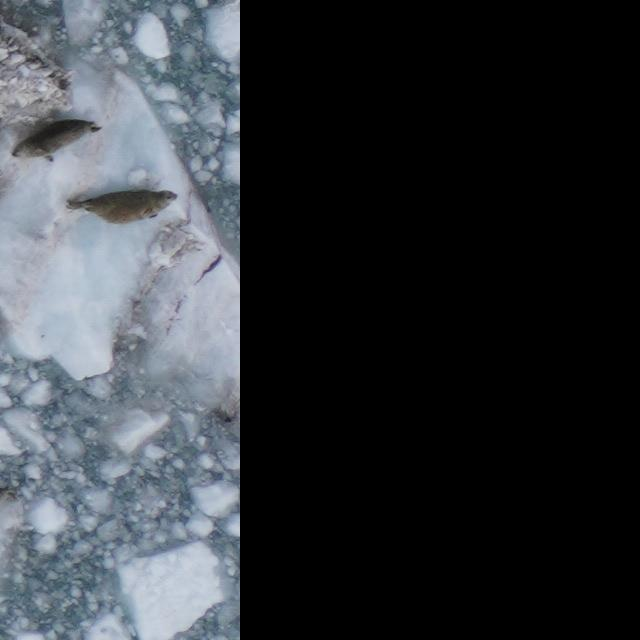seal: (62, 187, 181, 227), (8, 117, 107, 165)
